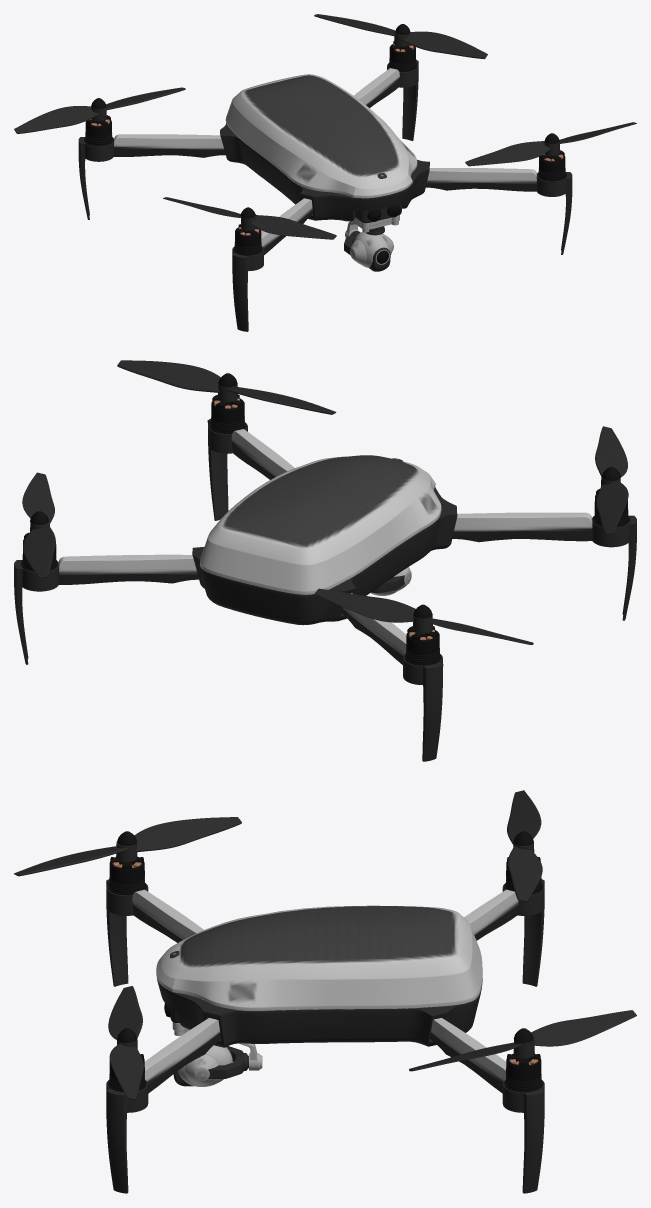
Rendered from drone.glb.
3 views of the same model, one above another, from view 1: azimuth 30°, elevation 25°; view 2: azimuth 150°, elevation 25°; view 3: azimuth 270°, elevation 25° (orthographic). The views are drawn at different scales.
Visible parts, largest first — view 1: Object_165, Object_159, Object_198, Object_204, Object_195, Object_201, Object_225, Object_216, Object_207, Object_234, Object_183, Object_213 (+4 smaller); view 2: Object_165, Object_159, Object_195, Object_201, Object_198, Object_204, Object_234, Object_216, Object_207, Object_225, Object_222, Object_240 (+1 smaller); view 3: Object_165, Object_159, Object_204, Object_201, Object_195, Object_207, Object_198, Object_225, Object_216, Object_234, Object_183, Object_231 (+1 smaller).
Part boxes in pixels (x1,y1,x2,y2): Object_165: [225, 74, 417, 198]; Object_159: [220, 122, 429, 223]; Object_198: [78, 134, 225, 219]; Object_204: [425, 168, 572, 254]; Object_195: [232, 198, 312, 331]; Object_201: [354, 60, 418, 140]; Object_225: [314, 14, 487, 59]; Object_216: [14, 87, 185, 133]; Object_207: [163, 197, 336, 239]; Object_234: [465, 122, 636, 166]; Object_183: [344, 221, 393, 271]; Object_213: [234, 224, 261, 254]; Object_165: [200, 455, 441, 594]; Object_159: [192, 487, 457, 625]; Object_195: [452, 512, 636, 620]; Object_201: [14, 554, 198, 664]; Object_198: [341, 593, 443, 761]; Object_204: [207, 418, 294, 520]; Object_234: [117, 360, 336, 414]; Object_216: [314, 588, 533, 644]; Object_207: [595, 426, 628, 535]; Object_225: [22, 472, 55, 577]; Object_222: [406, 626, 439, 663]; Object_240: [211, 394, 244, 432]; Object_165: [156, 905, 482, 1010]; Object_159: [157, 979, 482, 1047]; Object_204: [106, 1018, 220, 1193]; Object_201: [430, 1018, 544, 1193]; Object_195: [106, 879, 203, 986]; Object_207: [14, 817, 241, 876]; Object_198: [464, 879, 544, 986]; Object_225: [409, 1010, 636, 1071]; Object_216: [507, 790, 542, 901]; Object_234: [108, 986, 143, 1100]; Object_183: [173, 1043, 262, 1086]; Object_231: [506, 1053, 541, 1090].
Bounding box in the file's own units: 0.266 × 0.0665 × 0.2283.
77 materials, 77 textured.
